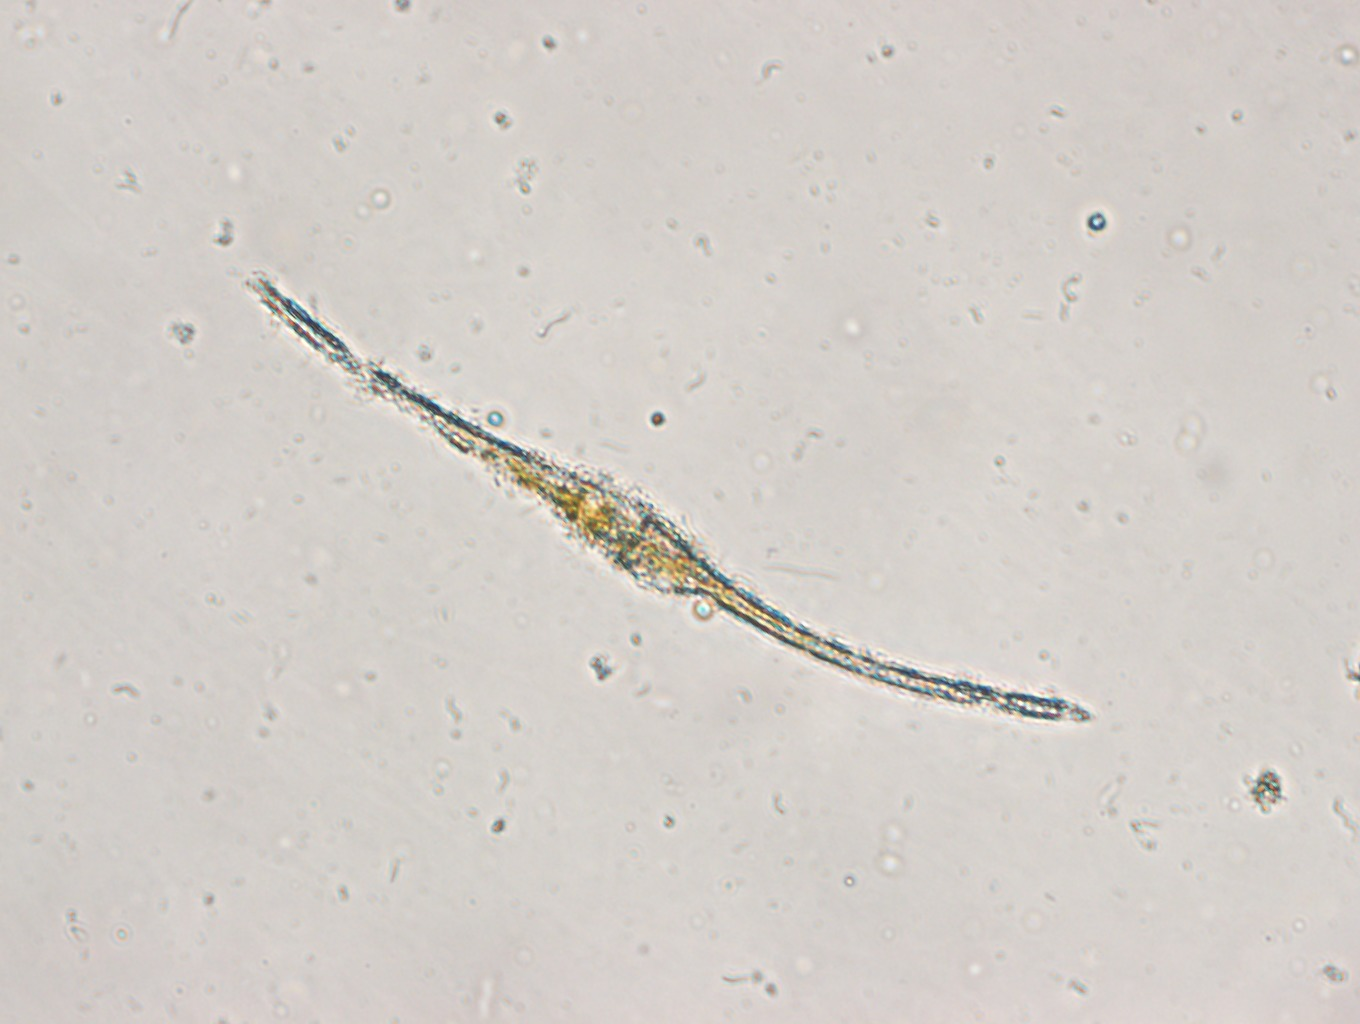ceratium fusus: (246, 267, 1089, 734)
